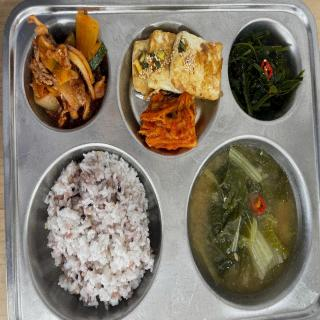Nasi: (48, 155, 155, 311)
